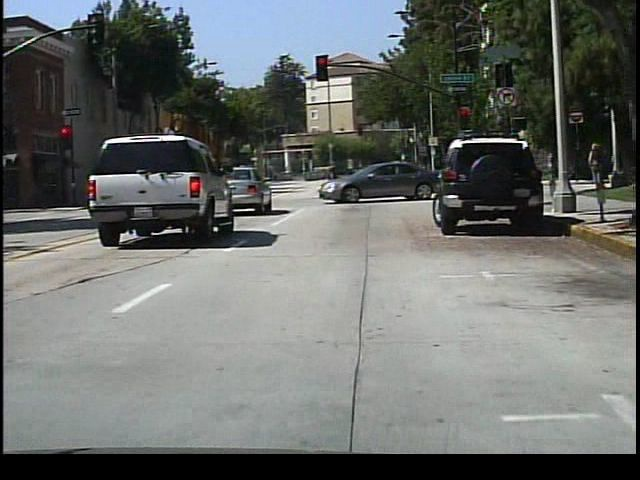person: (589, 138, 606, 192), (457, 151, 474, 187), (324, 158, 344, 177)
